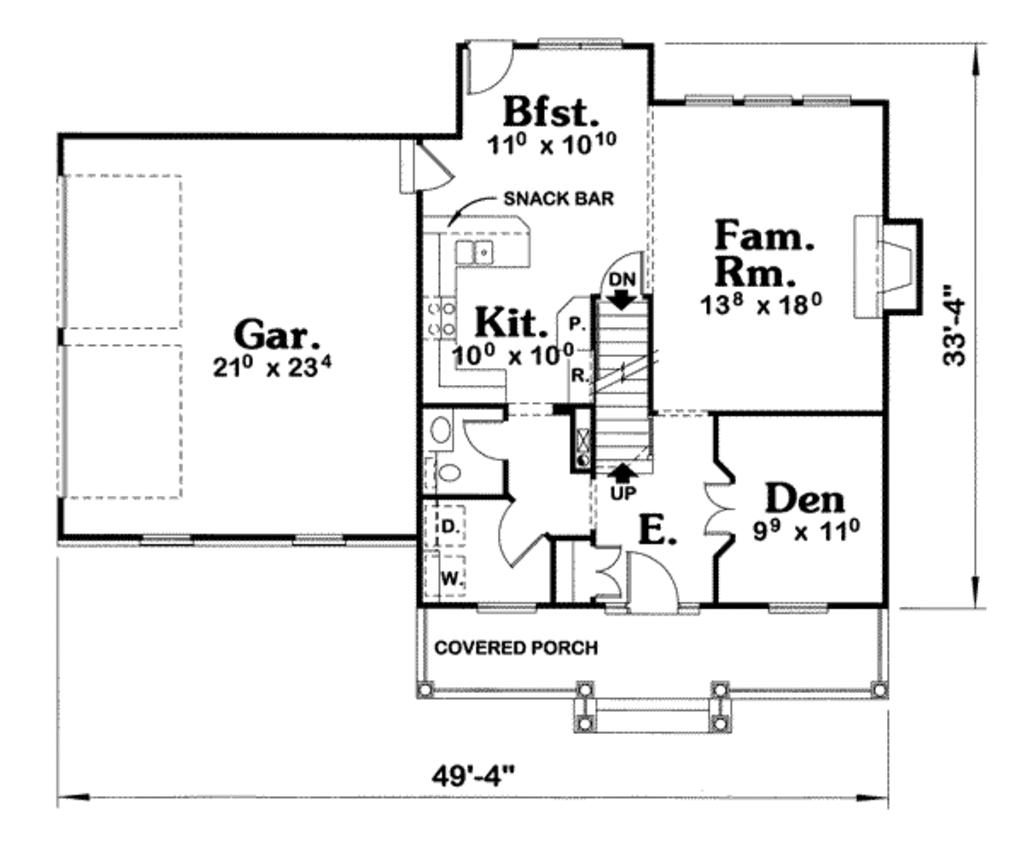door: (620, 548, 679, 617), (495, 503, 549, 572), (399, 135, 455, 196), (462, 36, 516, 99), (595, 248, 648, 299), (459, 414, 509, 465), (588, 539, 626, 602), (700, 478, 736, 542)
large_sink: (425, 451, 464, 498)
small_sink: (423, 406, 457, 459)
stairs: (591, 293, 660, 498)
twin_sink: (446, 233, 503, 271)
window: (680, 92, 855, 111), (531, 34, 626, 51), (763, 600, 834, 622), (468, 598, 542, 618), (134, 531, 201, 551), (281, 532, 348, 550)
